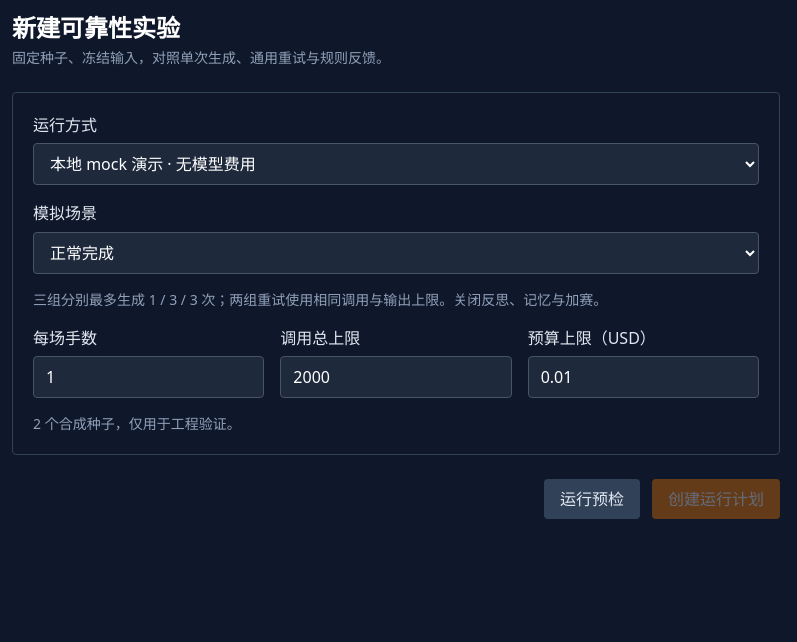
Test: evaluation workflows › preflights the server protocol and invalidates approval after controls change
The image size is (797, 642).
Click the button "运行预检".
click(592, 499)  # box [544,479,640,519]
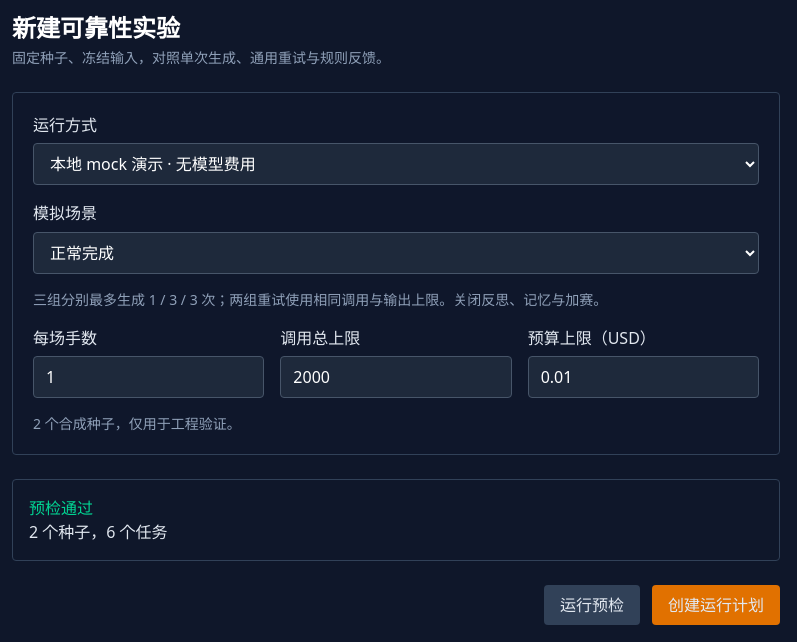
expect the button "创建运行计划" is enabled: met, box [652,585,780,625]
Replace the text in the number field labelled "每场手数" with "2" at (149, 377), box [33,356,264,398]
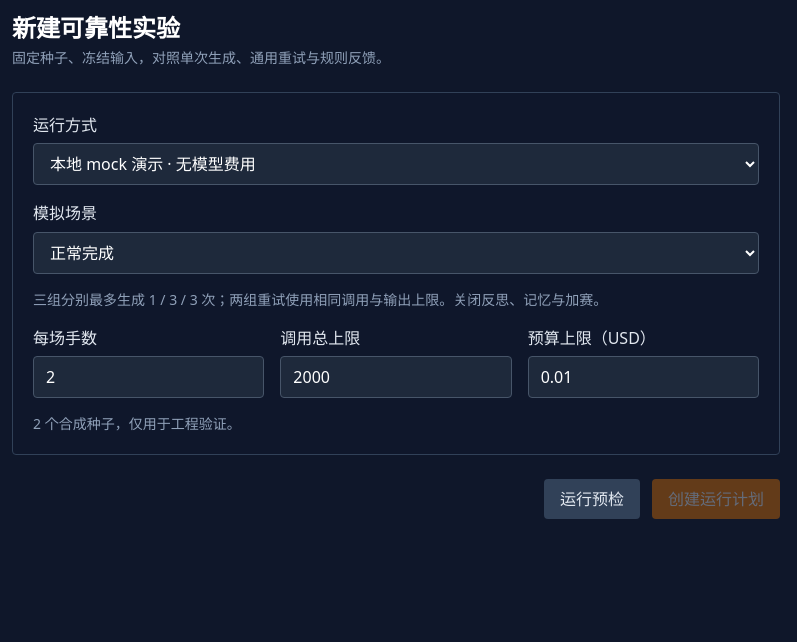
expect the button "创建运行计划" is disabled: met, box [652,479,780,519]
